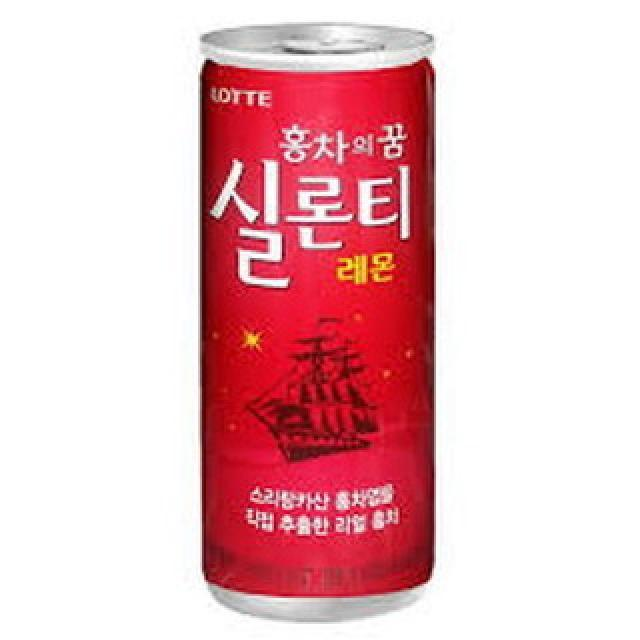can: (191, 11, 447, 614)
